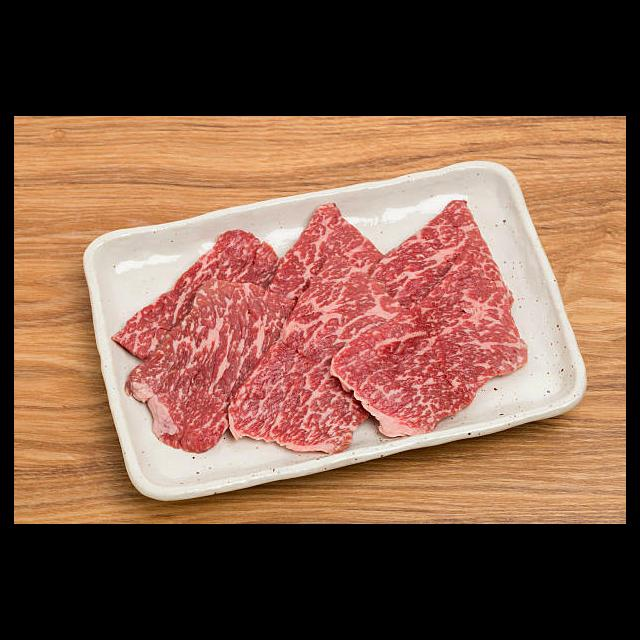beef: (106, 200, 530, 454)
